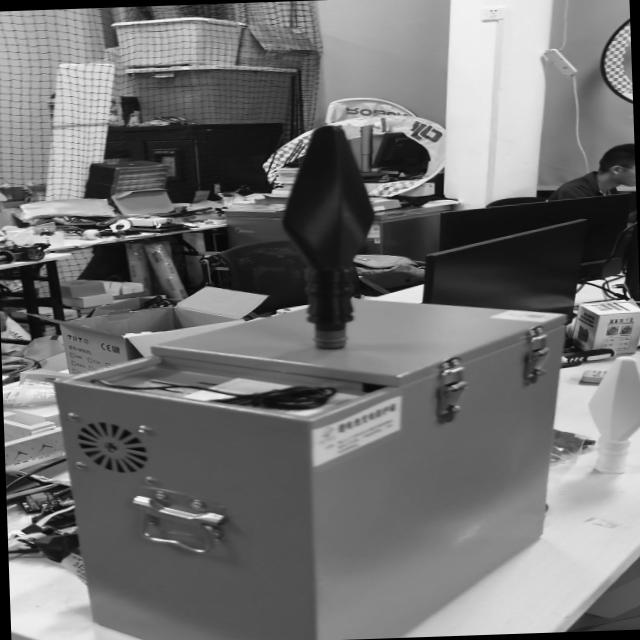base: (313, 329, 348, 350)
